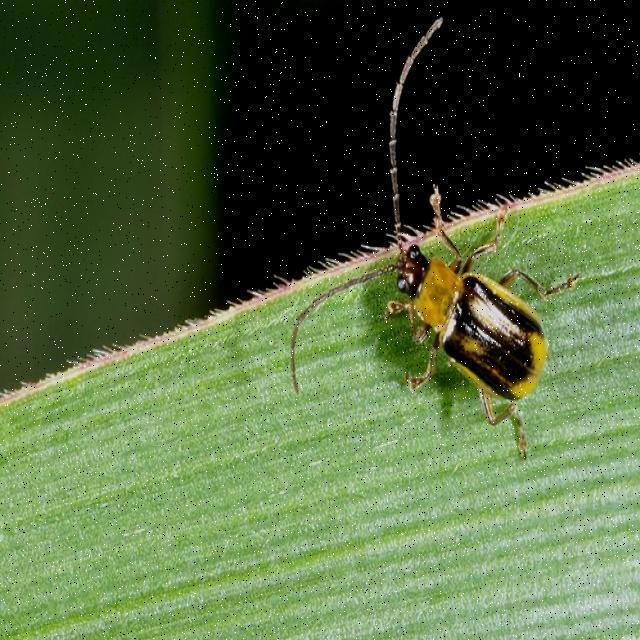trips: (292, 18, 578, 460)
